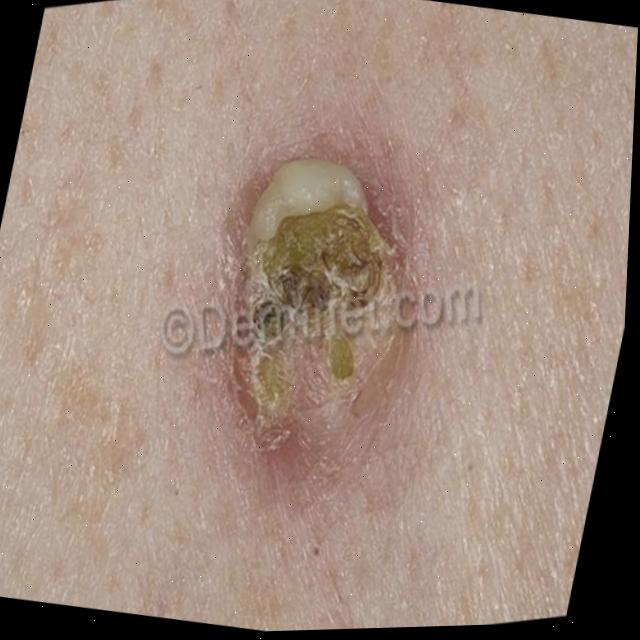Eczema: (212, 157, 413, 438)
